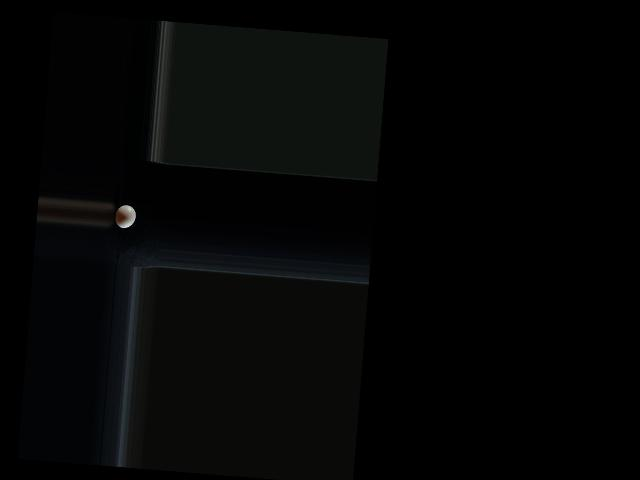egg: (114, 204, 137, 229)
